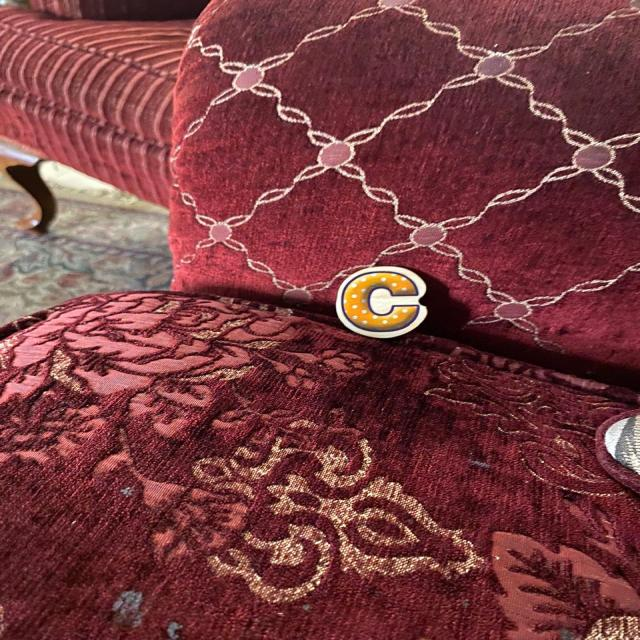C: (335, 267, 427, 338)
